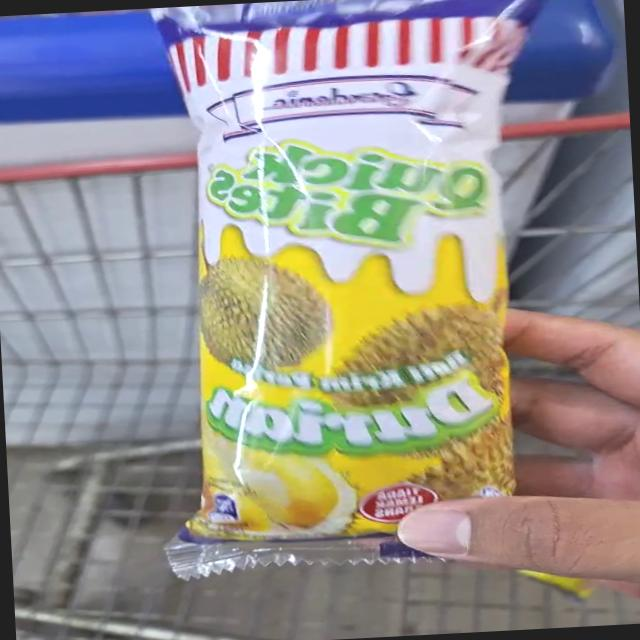Roti: (103, 0, 570, 586)
